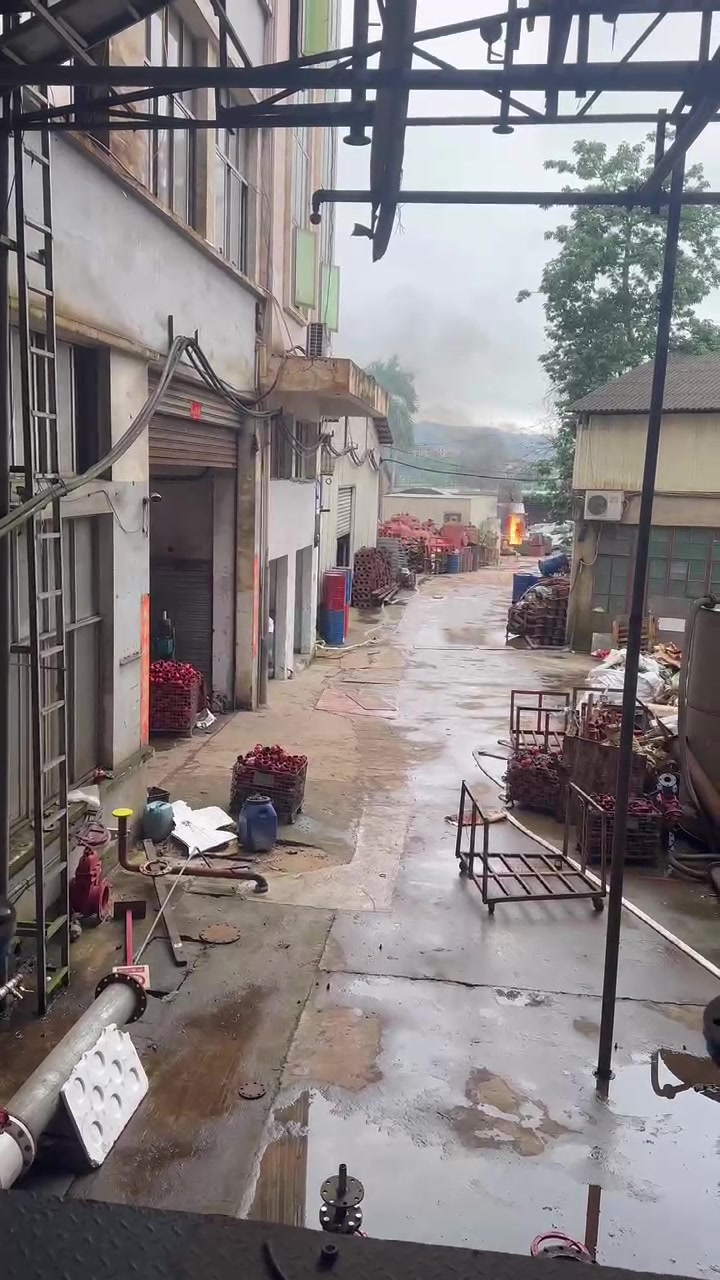fire: (508, 513, 521, 544)
